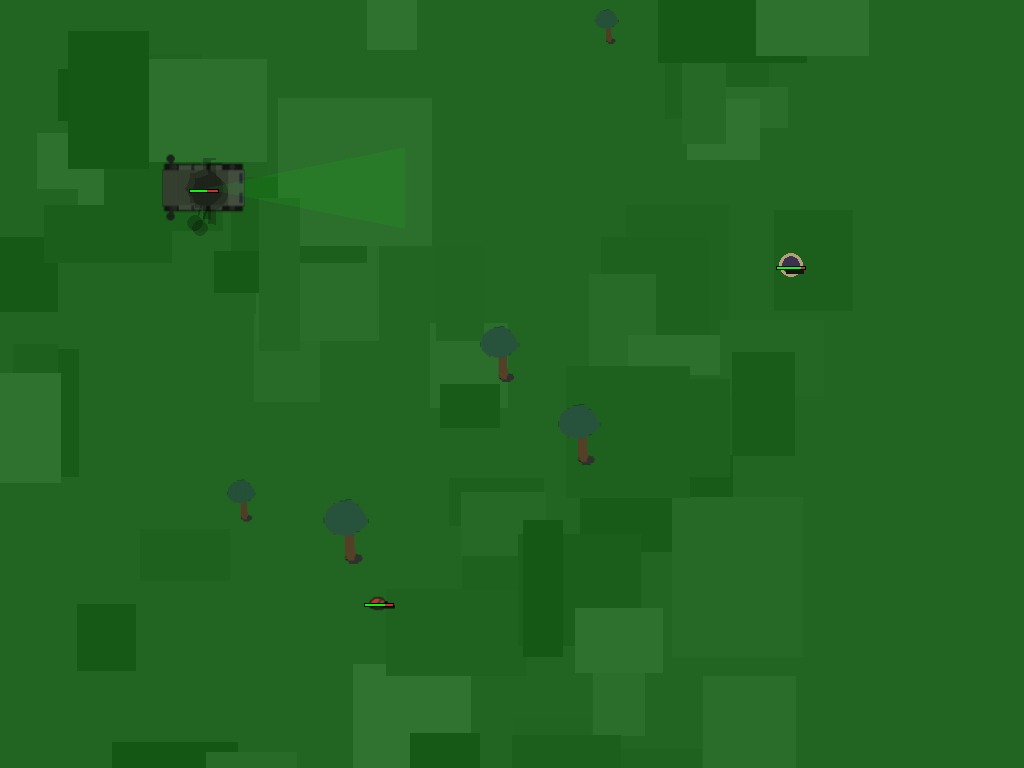RadarBuilding: (157, 141, 250, 234)
RocketTrooper: (772, 246, 804, 284)
Sniper: (361, 584, 397, 620)
